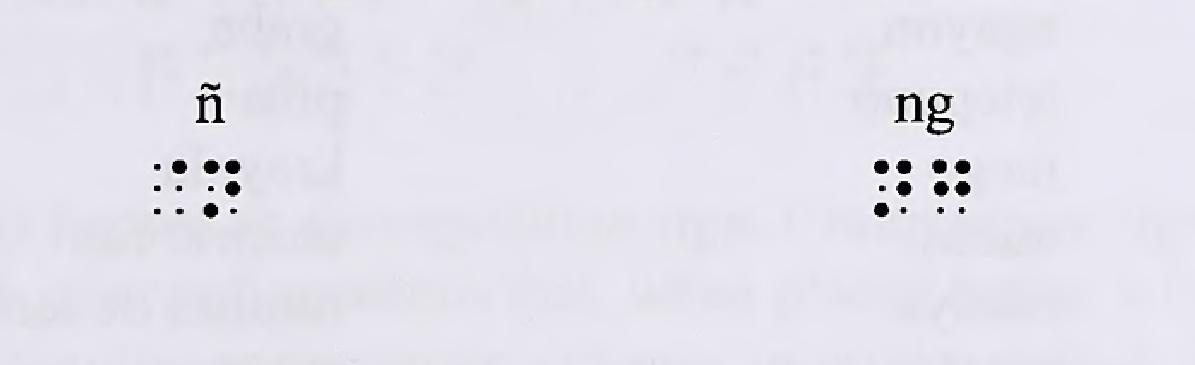dot_4: (149, 157, 187, 217)
letter_g: (931, 158, 970, 215)
letter_n: (872, 158, 914, 222), (202, 160, 242, 217)
